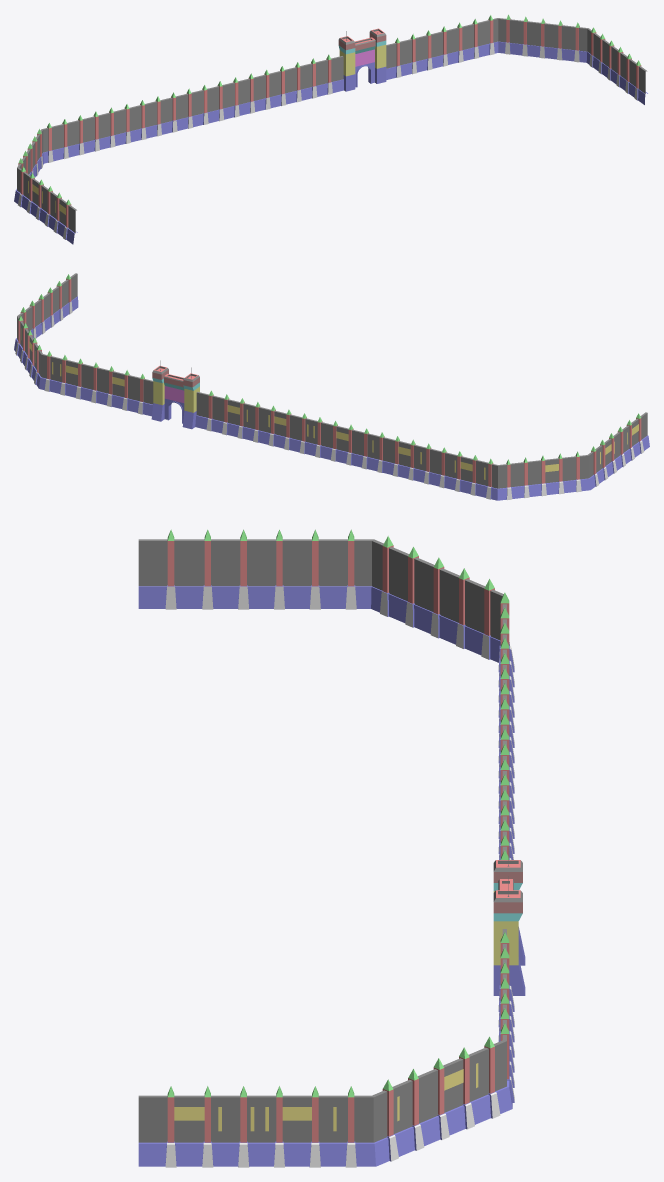
File: L2fortress_02_s__fort02_wall_square01.gltf
3 views of the same model, one above another, from view 1: azimuth 30°, elevation 25°; view 2: azimuth 150°, elevation 25°; view 3: azimuth 270°, elevation 25° (orthographic). The views are drawn at different scales.
Visible parts, largest first — view 1: fort02_wall_square01; view 2: fort02_wall_square01; view 3: fort02_wall_square01.
Part boxes in pixels (box(x1,y1,x2,y2)): fort02_wall_square01: box(14, 14, 647, 244); fort02_wall_square01: box(14, 273, 649, 500); fort02_wall_square01: box(138, 529, 525, 1167).
Size of the model in its own units: 61.49 by 5.87 by 17.78.
